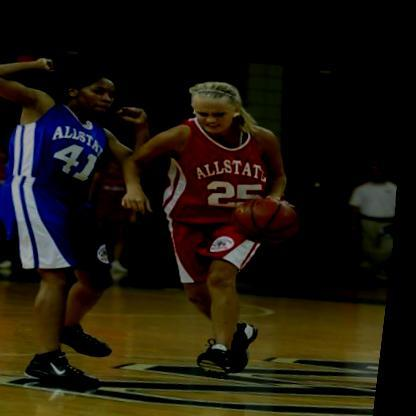basketball: (233, 186, 308, 243)
